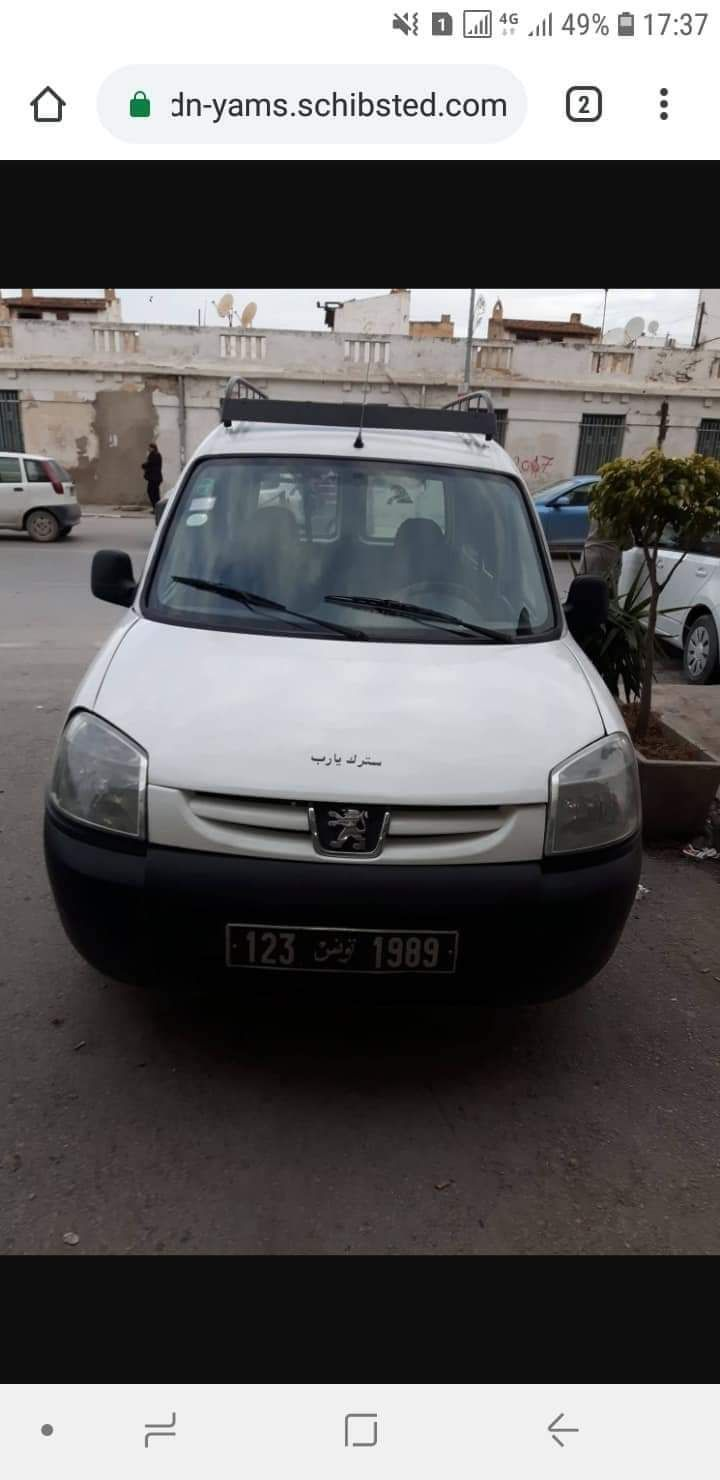LP: (226, 922, 457, 978)
